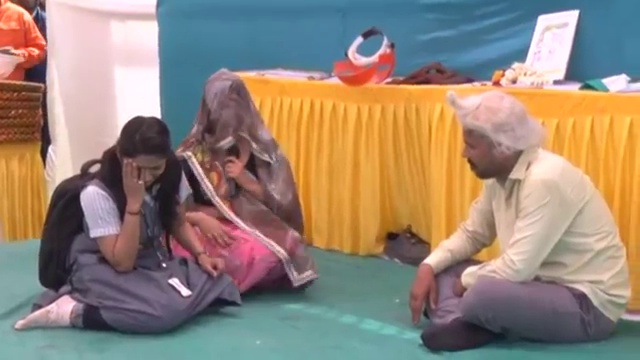helmet: (0, 52, 27, 79)
helmet_off: (449, 91, 535, 186), (114, 110, 174, 192), (199, 75, 257, 145)
person: (400, 93, 638, 336), (10, 119, 220, 339), (153, 67, 307, 301), (0, 0, 43, 82)
